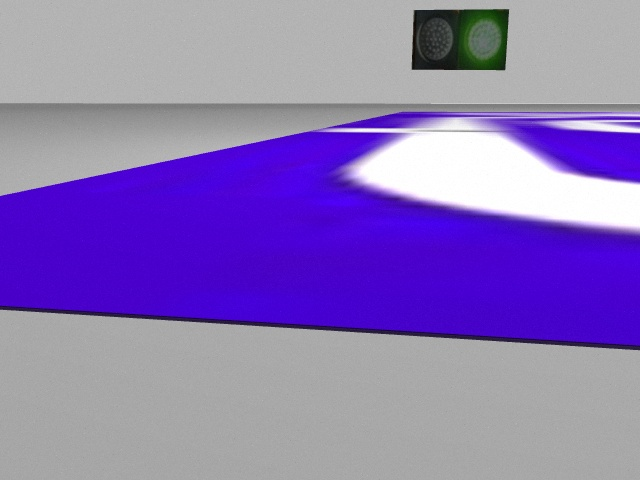green: (458, 10, 508, 66)
